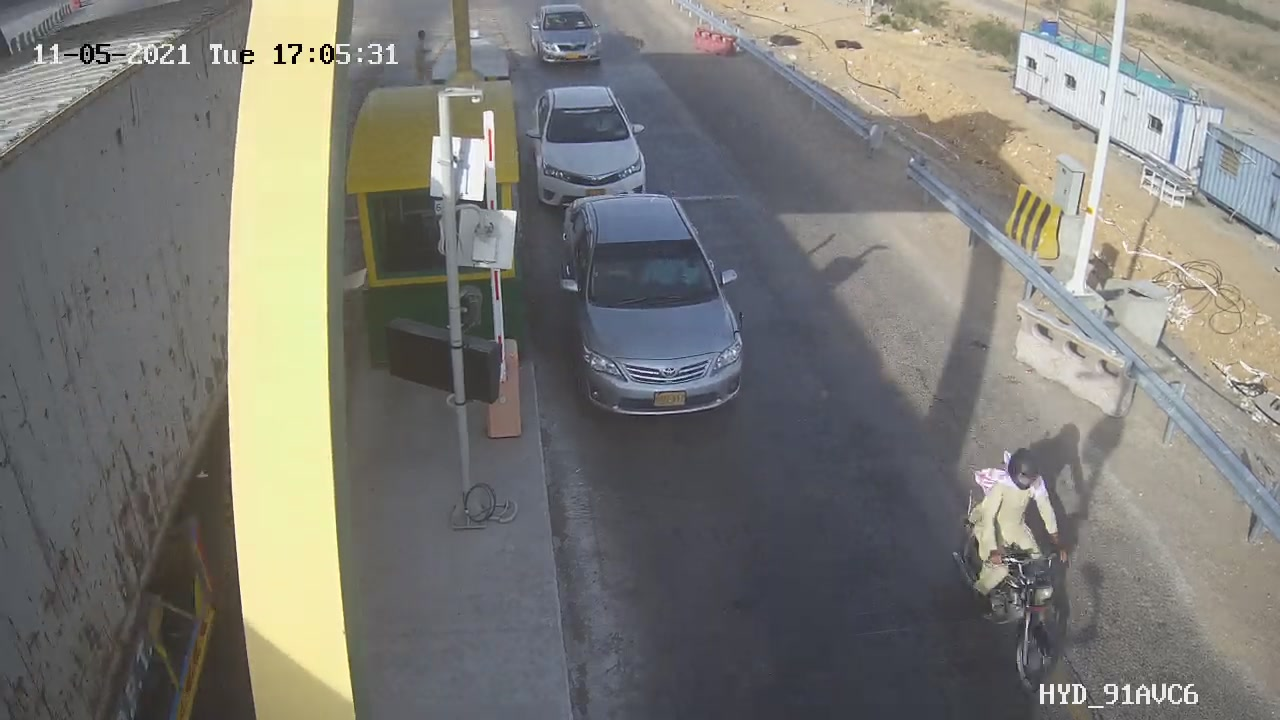F1: (534, 181, 772, 433), (512, 73, 666, 222)
